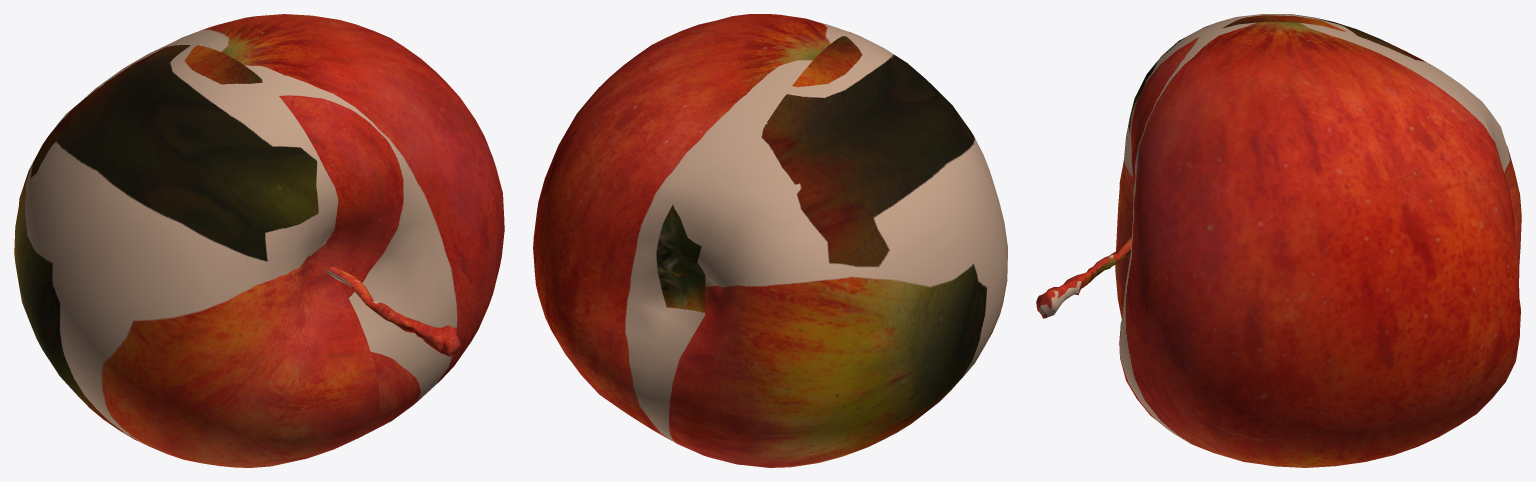
3 renders of one model, left to right at view 1: azimuth 30°, elevation 25°; view 2: azimuth 150°, elevation 25°; view 3: azimuth 270°, elevation 25°, orthographic. The views are drawn at different scales.
Size of the model in its own units: 1 by 0.9137 by 0.9645.
